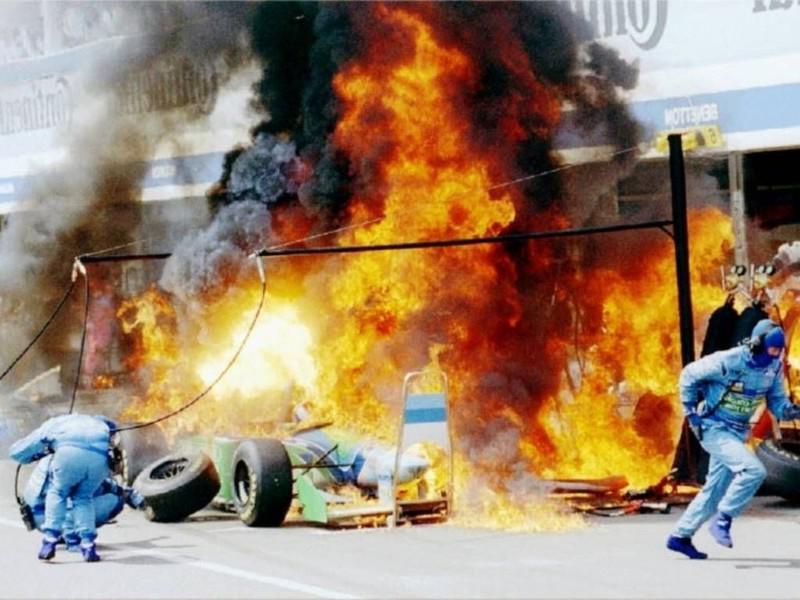Fire: (104, 19, 520, 452), (522, 194, 754, 520)
